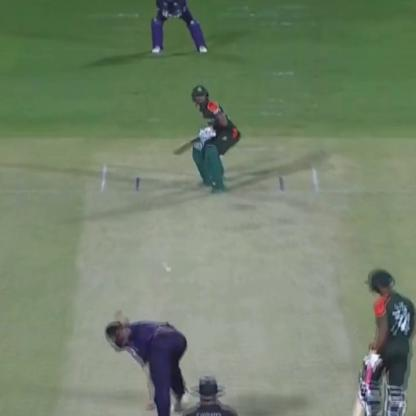ball: (160, 266, 178, 277), (156, 261, 170, 264)
bat: (164, 130, 212, 159)
pitch: (61, 158, 378, 412)
